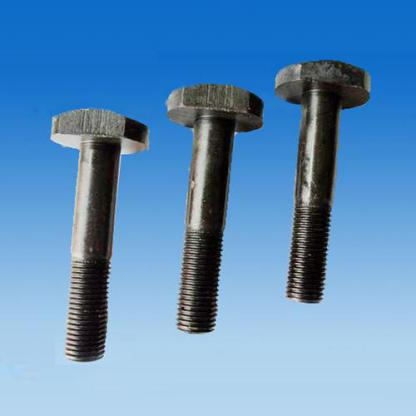FOD: (46, 107, 150, 365), (163, 83, 268, 338), (273, 57, 375, 307)
